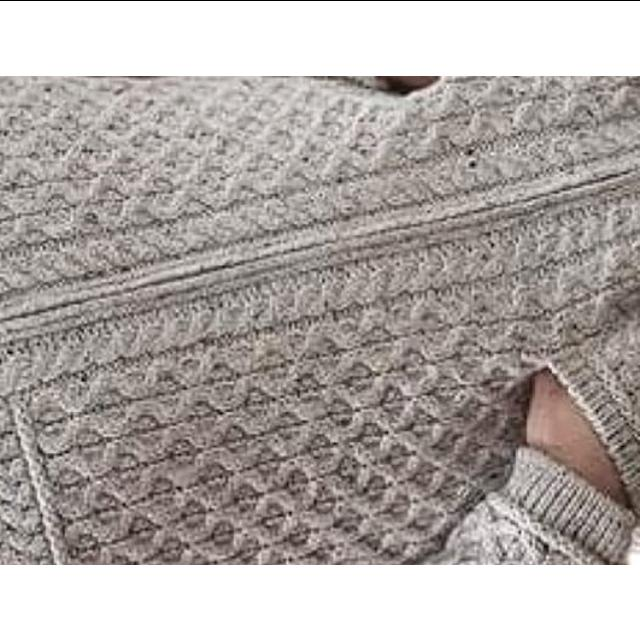wool: (0, 76, 640, 564)
